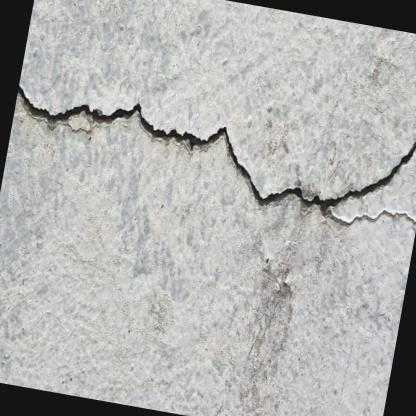crack: (17, 84, 416, 211), (327, 209, 416, 224)
